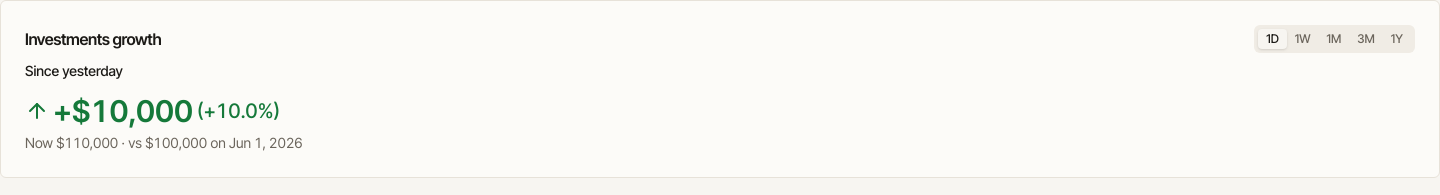
Scenario: GrowthCard — horizon chips › unavailable horizon shows "Not enough history yet"
The image size is (1440, 195).
Click the tab named "1Y — past year" at (1397, 39), box [1383,29,1411,49]
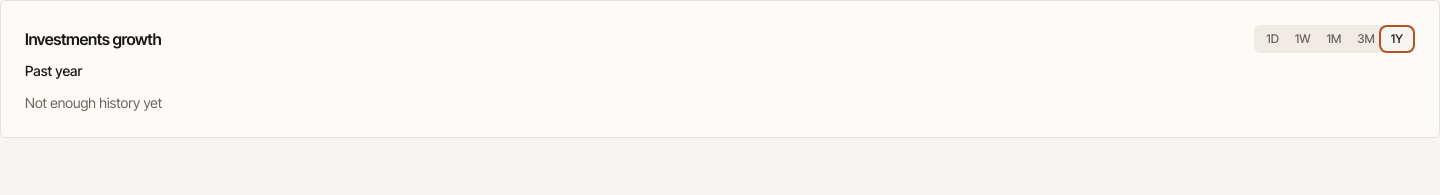
Expected: the text "Not enough history yet" is shown, [25,94,162,111]
